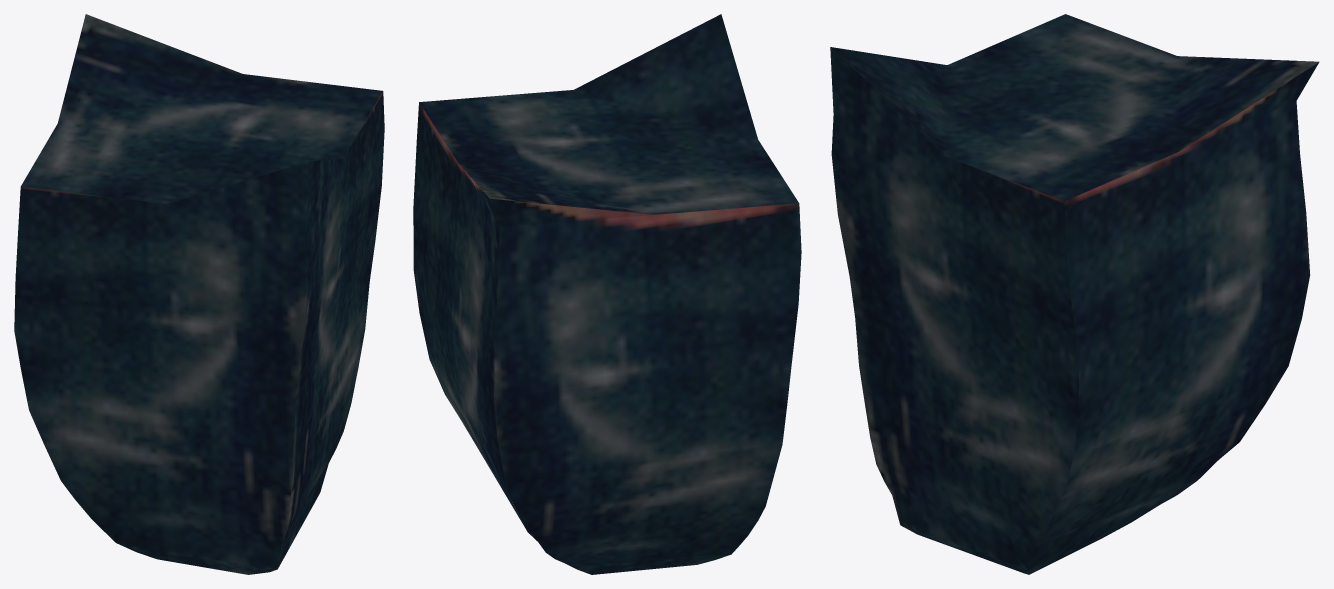
The picture shows the model from 3 angles, left to right: view 1: azimuth 30°, elevation 25°; view 2: azimuth 150°, elevation 25°; view 3: azimuth 270°, elevation 25°; orthographic projection. The views are drawn at different scales.
Visible parts, largest first — view 1: SPLICE_2; view 2: SPLICE_2; view 3: SPLICE_2.
Boxes of the visible parts, bbox=[...] form: SPLICE_2: bbox=[14, 14, 384, 574]; SPLICE_2: bbox=[413, 14, 801, 574]; SPLICE_2: bbox=[830, 14, 1319, 574].
Size of the model in its own units: 1.19 by 1.41 by 1.24.
1 material, 1 textured.
